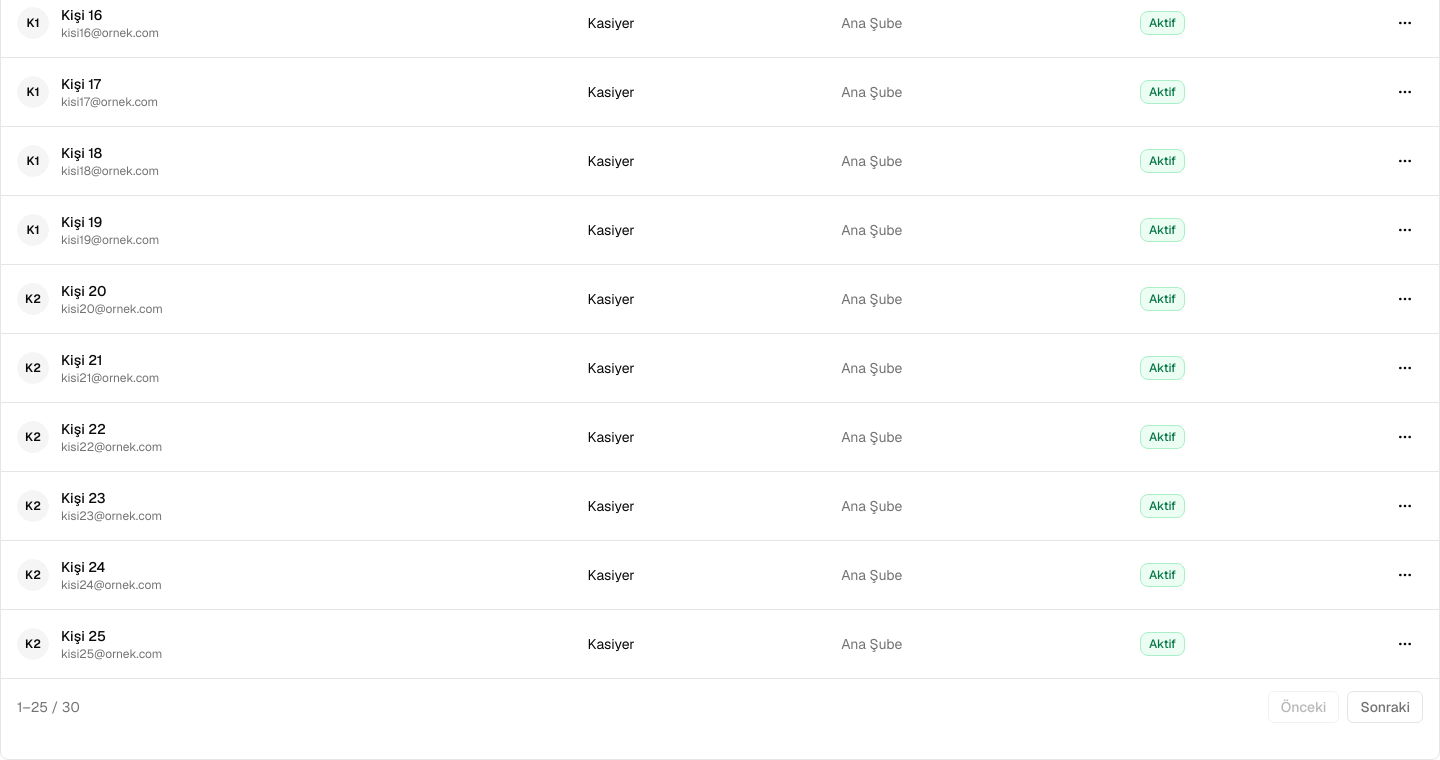
Test case: UsersPage › pages 25 rows at a time
(page scrolled)
Click the button "Sonraki" at (1385, 706), box [1347, 690, 1423, 722]
(page scrolled)
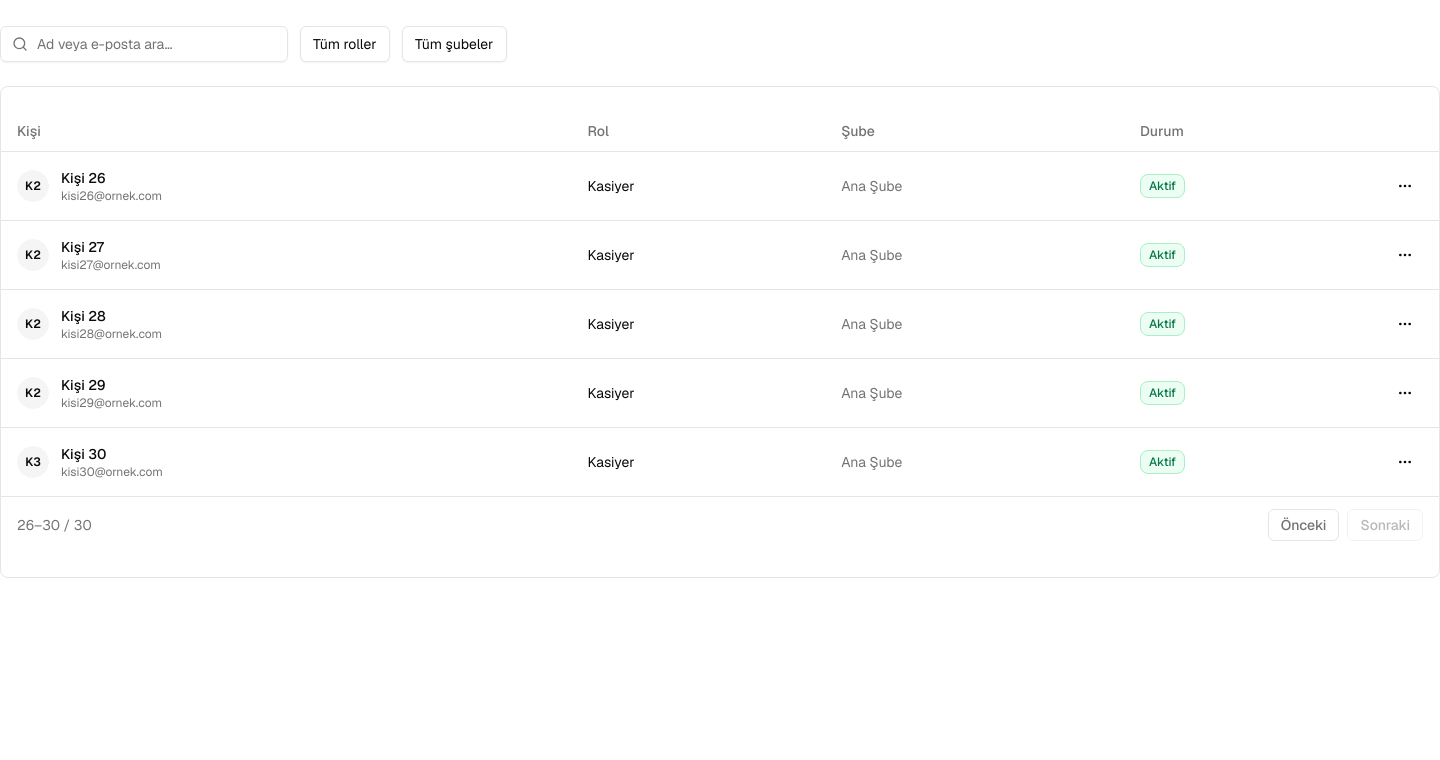
Expected: the button "Sonraki" is disabled, [1347, 508, 1423, 540]
